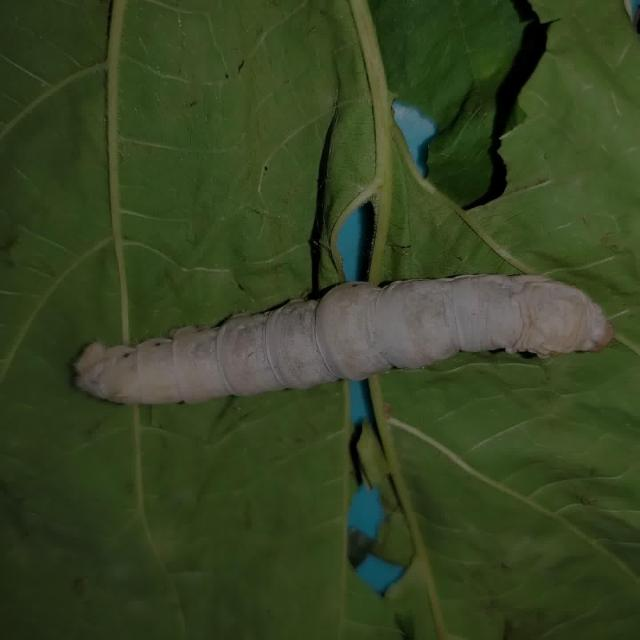Grasserie: (52, 261, 624, 415)
